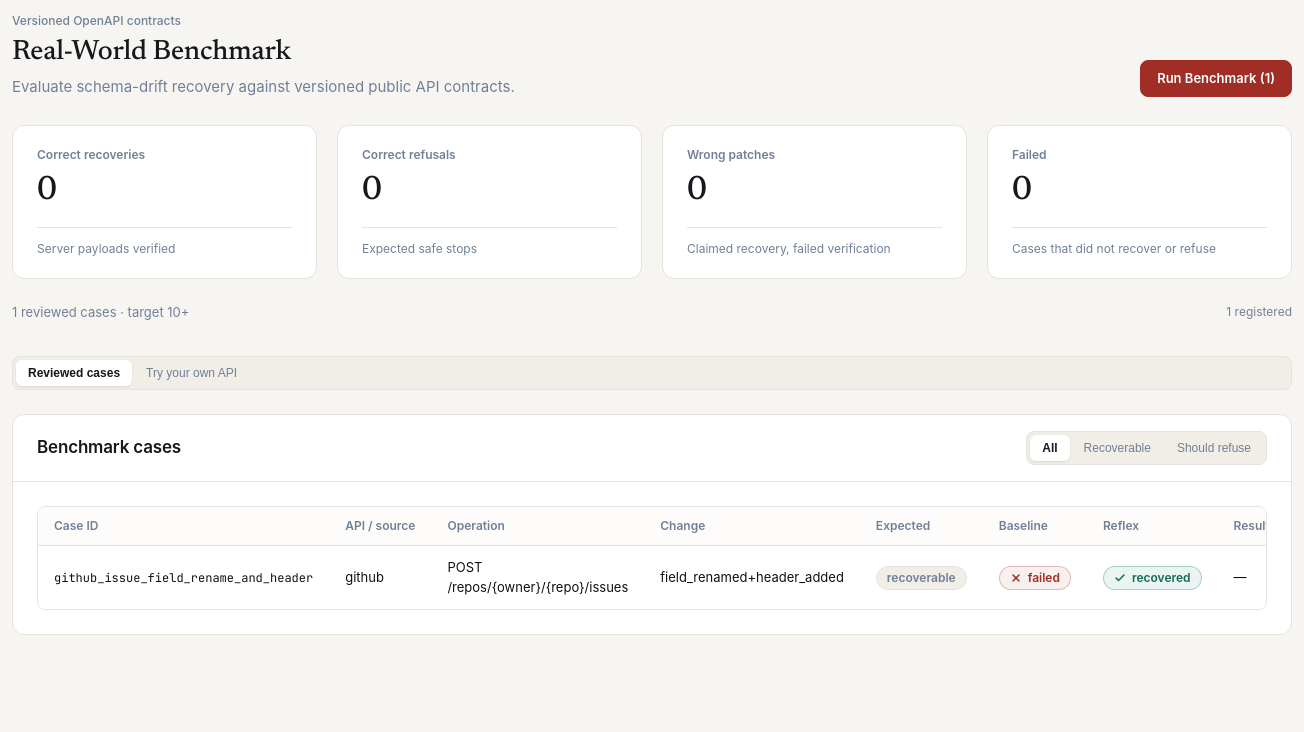
Test: RealWorldPage > Run Benchmark › polls the run, disables the button, and reports progress
Click the button "Run Benchmark (1)". click: click(1216, 78)
box: [1140,60,1292,97]
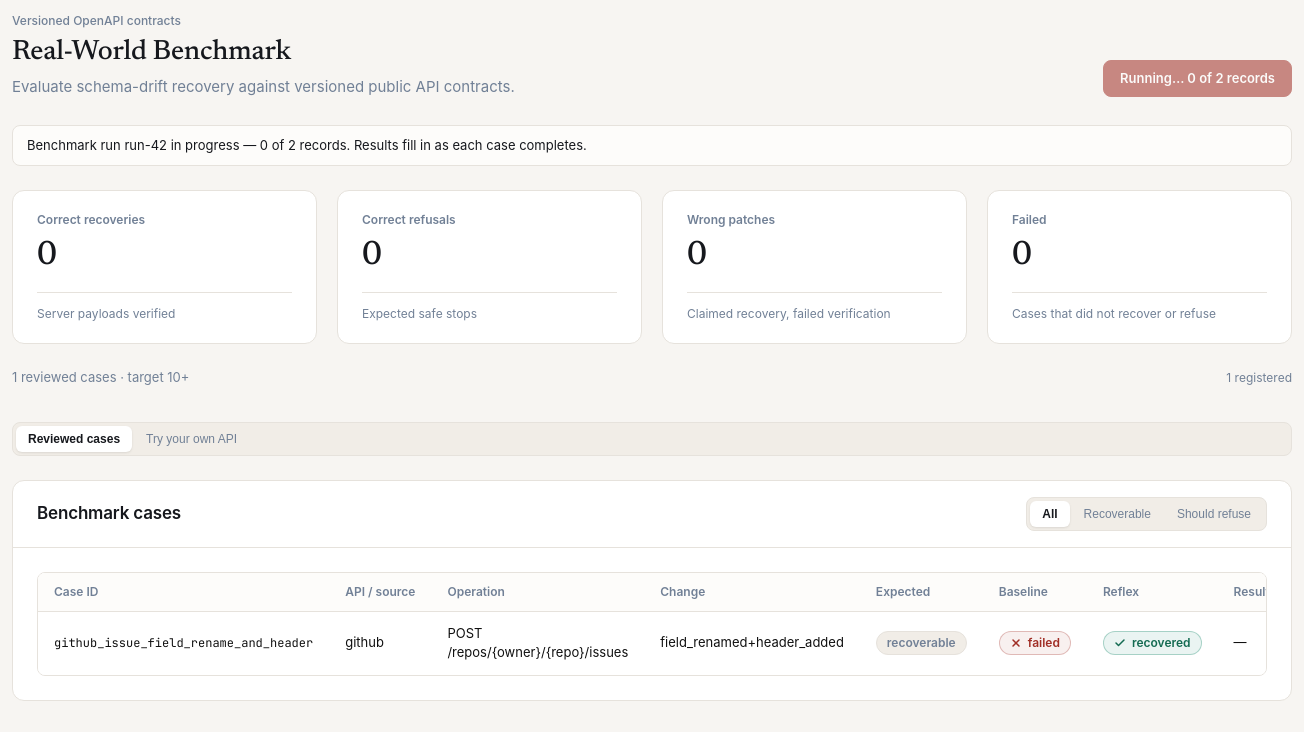
Result: the button "Running… 0 of 2 records" is disabled at [1103,60,1292,97]
Result: the button "Running… 0 of 2 records" is shown at [1103,60,1292,97]
Result: the message shows "Benchmark run run-42 in progress" at [12,125,1292,166]
